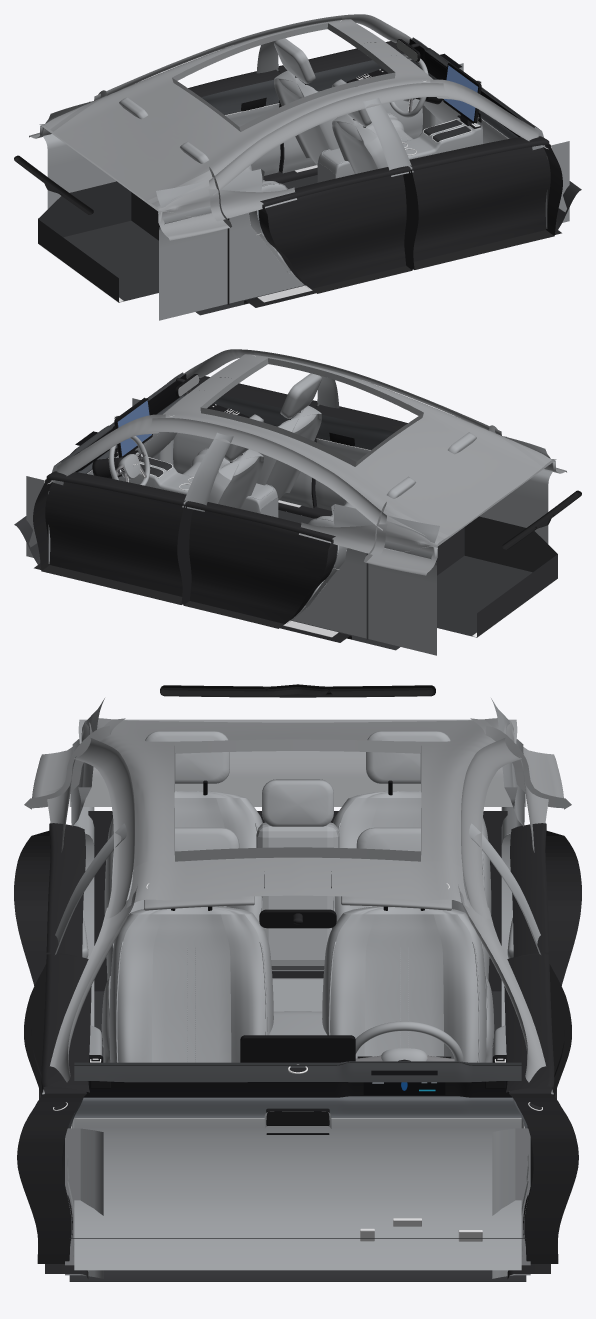
Rendered from byd-seal-interior.glb.
3 views of the same model, one above another, from view 1: azimuth 30°, elevation 25°; view 2: azimuth 150°, elevation 25°; view 3: azimuth 270°, elevation 25° (orthographic). The views are drawn at different scales.
Parts seen in each view (by area): view 1: BYDSeal_Cabin, int_headliner, int_door_R, int_rdoor_R, int_door_L, int_rdoor_L, int_tailgate, screen_main; view 2: BYDSeal_Cabin, int_headliner, int_door_L, int_rdoor_L, int_door_R, int_rdoor_R, int_tailgate, screen_main; view 3: BYDSeal_Cabin, int_headliner, int_door_L, int_door_R, int_rdoor_L, int_rdoor_R, int_tailgate.
Boxes of the visible parts, x1,y1,x2,y2 form: BYDSeal_Cabin: (29,14,581,320); int_headliner: (45,19,432,206); int_door_R: (409,136,562,269); int_rdoor_R: (257,166,416,293); int_door_L: (278,41,422,173); int_rdoor_L: (188,69,280,175); int_tailgate: (14,155,93,214); screen_main: (444,65,478,121); BYDSeal_Cabin: (14,349,566,655); int_headliner: (163,354,550,541); int_door_L: (33,471,186,604); int_rdoor_L: (179,501,338,628); int_door_R: (173,376,317,508); int_rdoor_R: (315,404,407,510); int_tailgate: (502,490,581,549); screen_main: (117,400,151,456); BYDSeal_Cabin: (24,698,571,1281); int_headliner: (89,718,506,908); int_door_L: (493,954,578,1263); int_door_R: (17,954,102,1263); int_rdoor_L: (507,823,581,1098); int_rdoor_R: (14,823,88,1098); int_tailgate: (160,684,435,697).
Size of the model in its own units: 3.23 by 1.14 by 1.84.
Materials: 26 (1 with a texture image).
